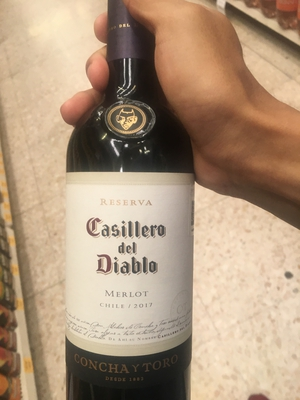casillero del diablo merlot: (67, 20, 198, 400)
